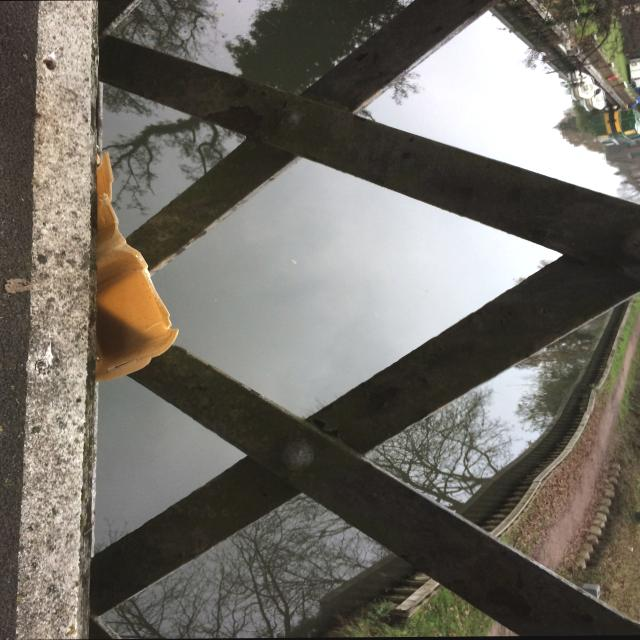Plastic: (84, 142, 190, 398)
